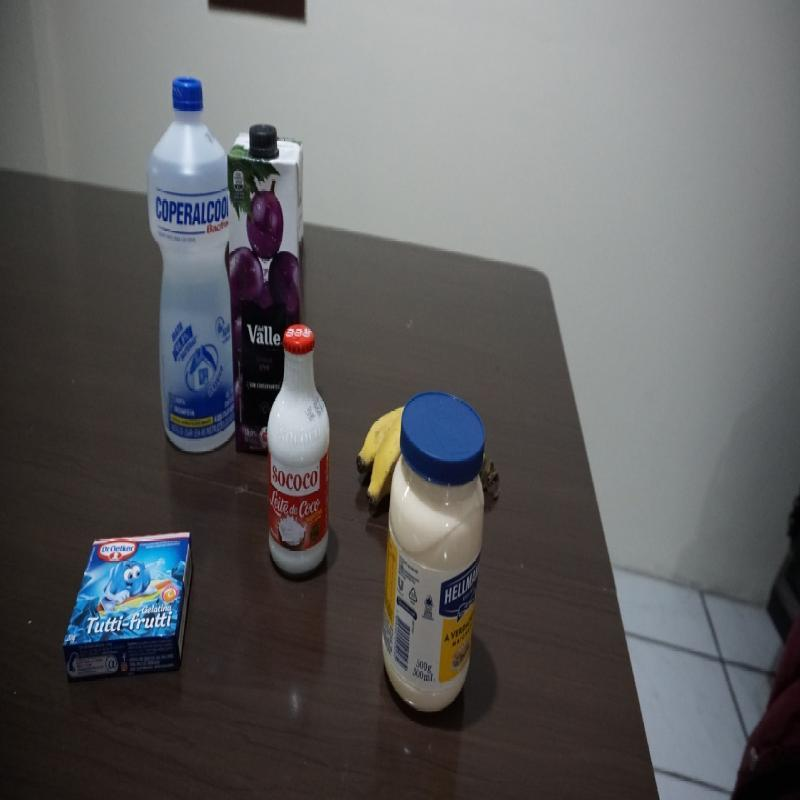Alcohol Bottle: (144, 73, 237, 451)
Banana: (351, 398, 406, 514)
Coconut Milk: (265, 322, 332, 580)
Gelatine: (60, 527, 197, 690)
Mayonnaise: (380, 389, 488, 711)
